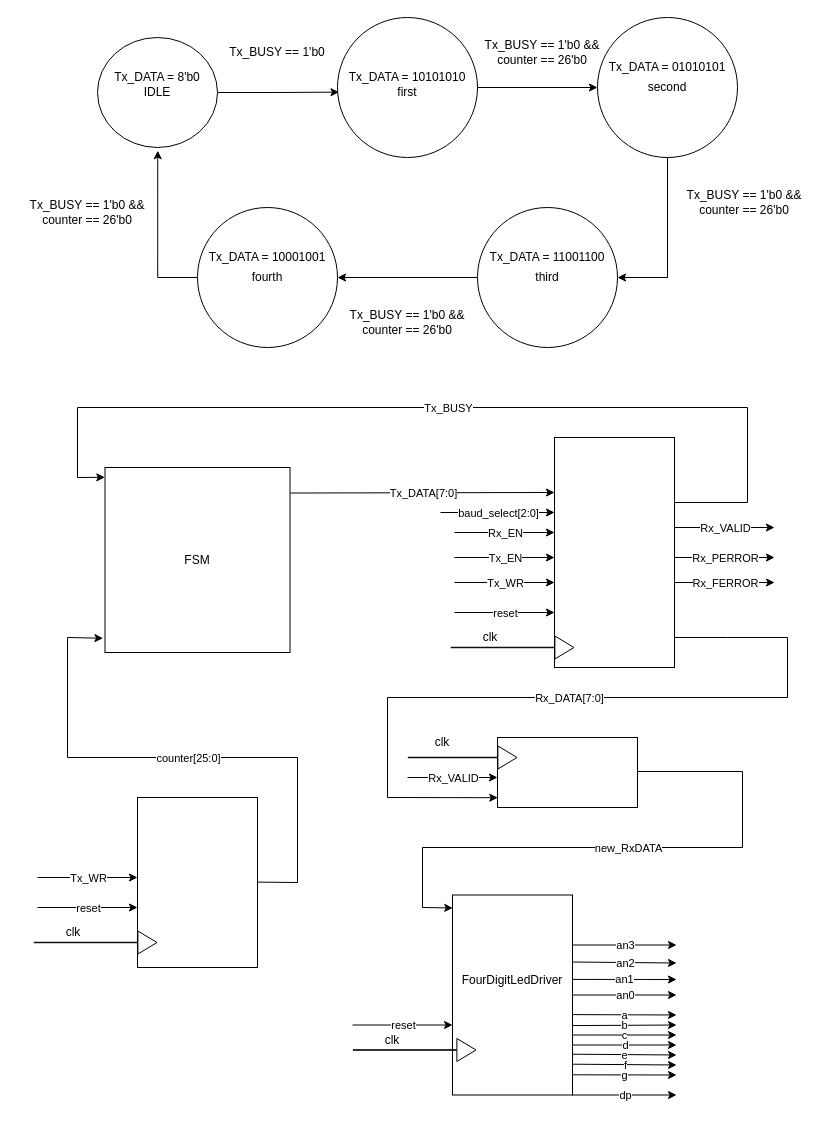
Some shapes in this 831 by 1121 pixel diagram are drawn without their labels. Each missing label, with the centre of its shape:
sec_counter: [197,882]
uart_top: [614,552]
variable_init: [567,772]
